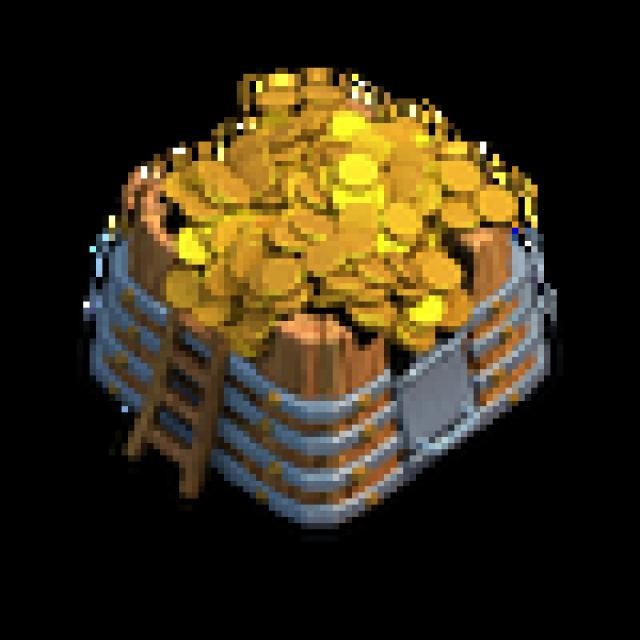gold_storage: (75, 60, 568, 551)
